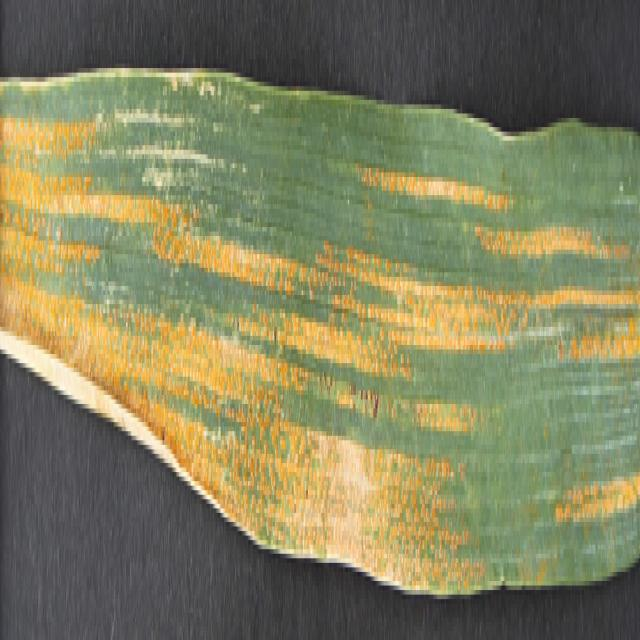leaf rust: (0, 49, 640, 576)
